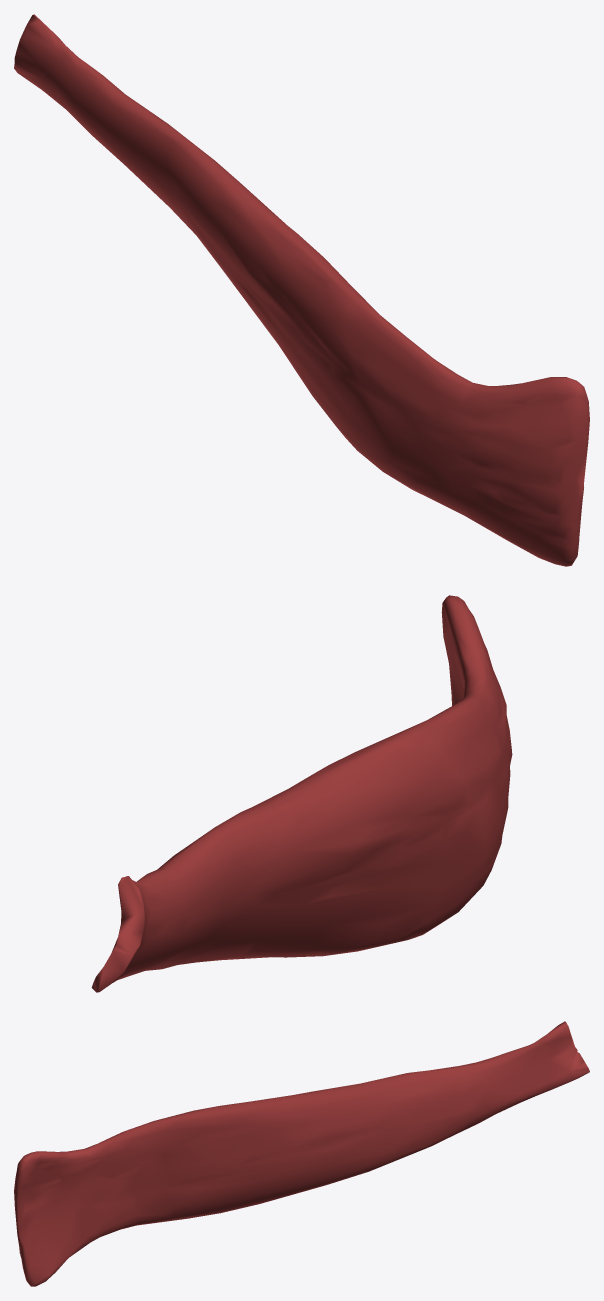
File: medial-rectus-muscle-l.glb
3 renders of one model, top to bottom at view 1: azimuth 30°, elevation 25°; view 2: azimuth 150°, elevation 25°; view 3: azimuth 270°, elevation 25°, orthographic. The views are drawn at different scales.
Parts seen in each view (by area): view 1: Medial rectus muscle.l; view 2: Medial rectus muscle.l; view 3: Medial rectus muscle.l.
Part boxes in pixels (x1=…): Medial rectus muscle.l: x1=14, y1=14, x2=589, y2=566; Medial rectus muscle.l: x1=91, y1=595, x2=512, y2=992; Medial rectus muscle.l: x1=14, y1=1021, x2=589, y2=1286.
Bounding box in the file's own units: 0.01 × 0.0166 × 0.0404.
